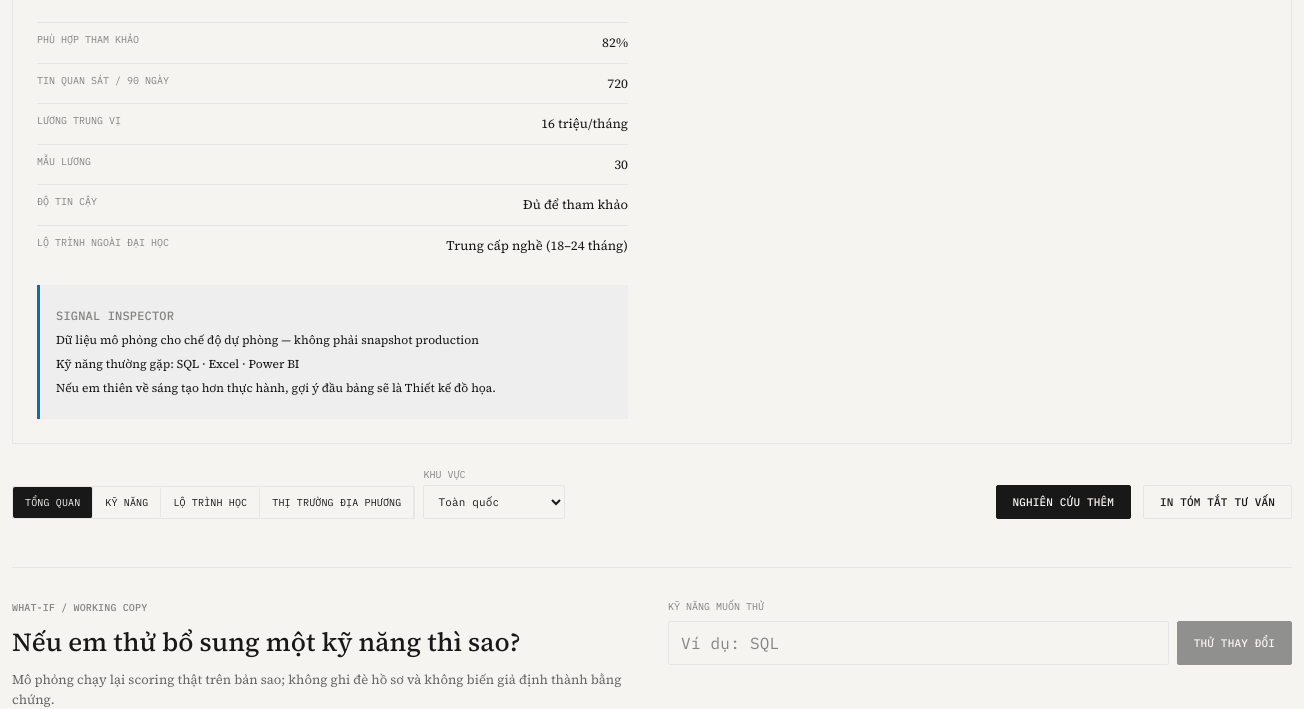
Scenario: DecisionLab › research hiển thị trạng thái và citation nhưng không đổi options
(page scrolled)
Click the button "NGHIÊN CỨU THÊM".
click(1063, 502)  # box [996,485,1131,519]
(page scrolled)
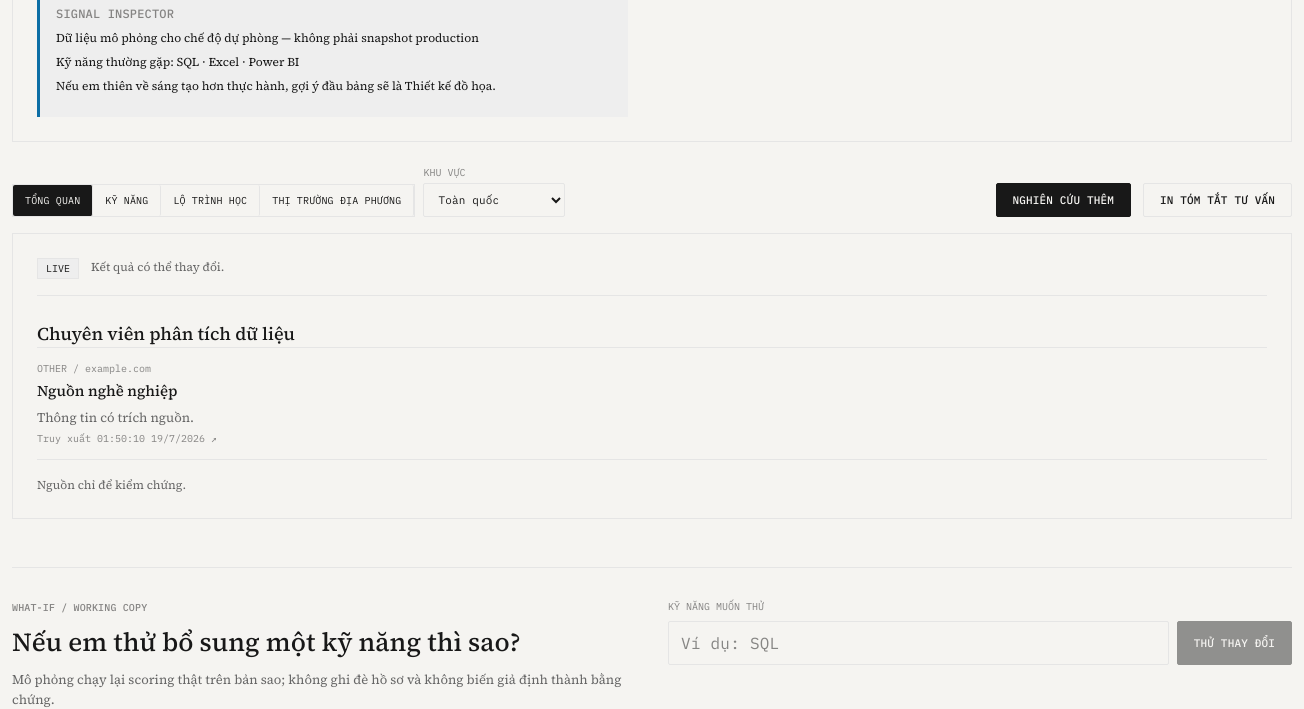
Check: the text "LIVE" is shown, box [37,258,79,279]
